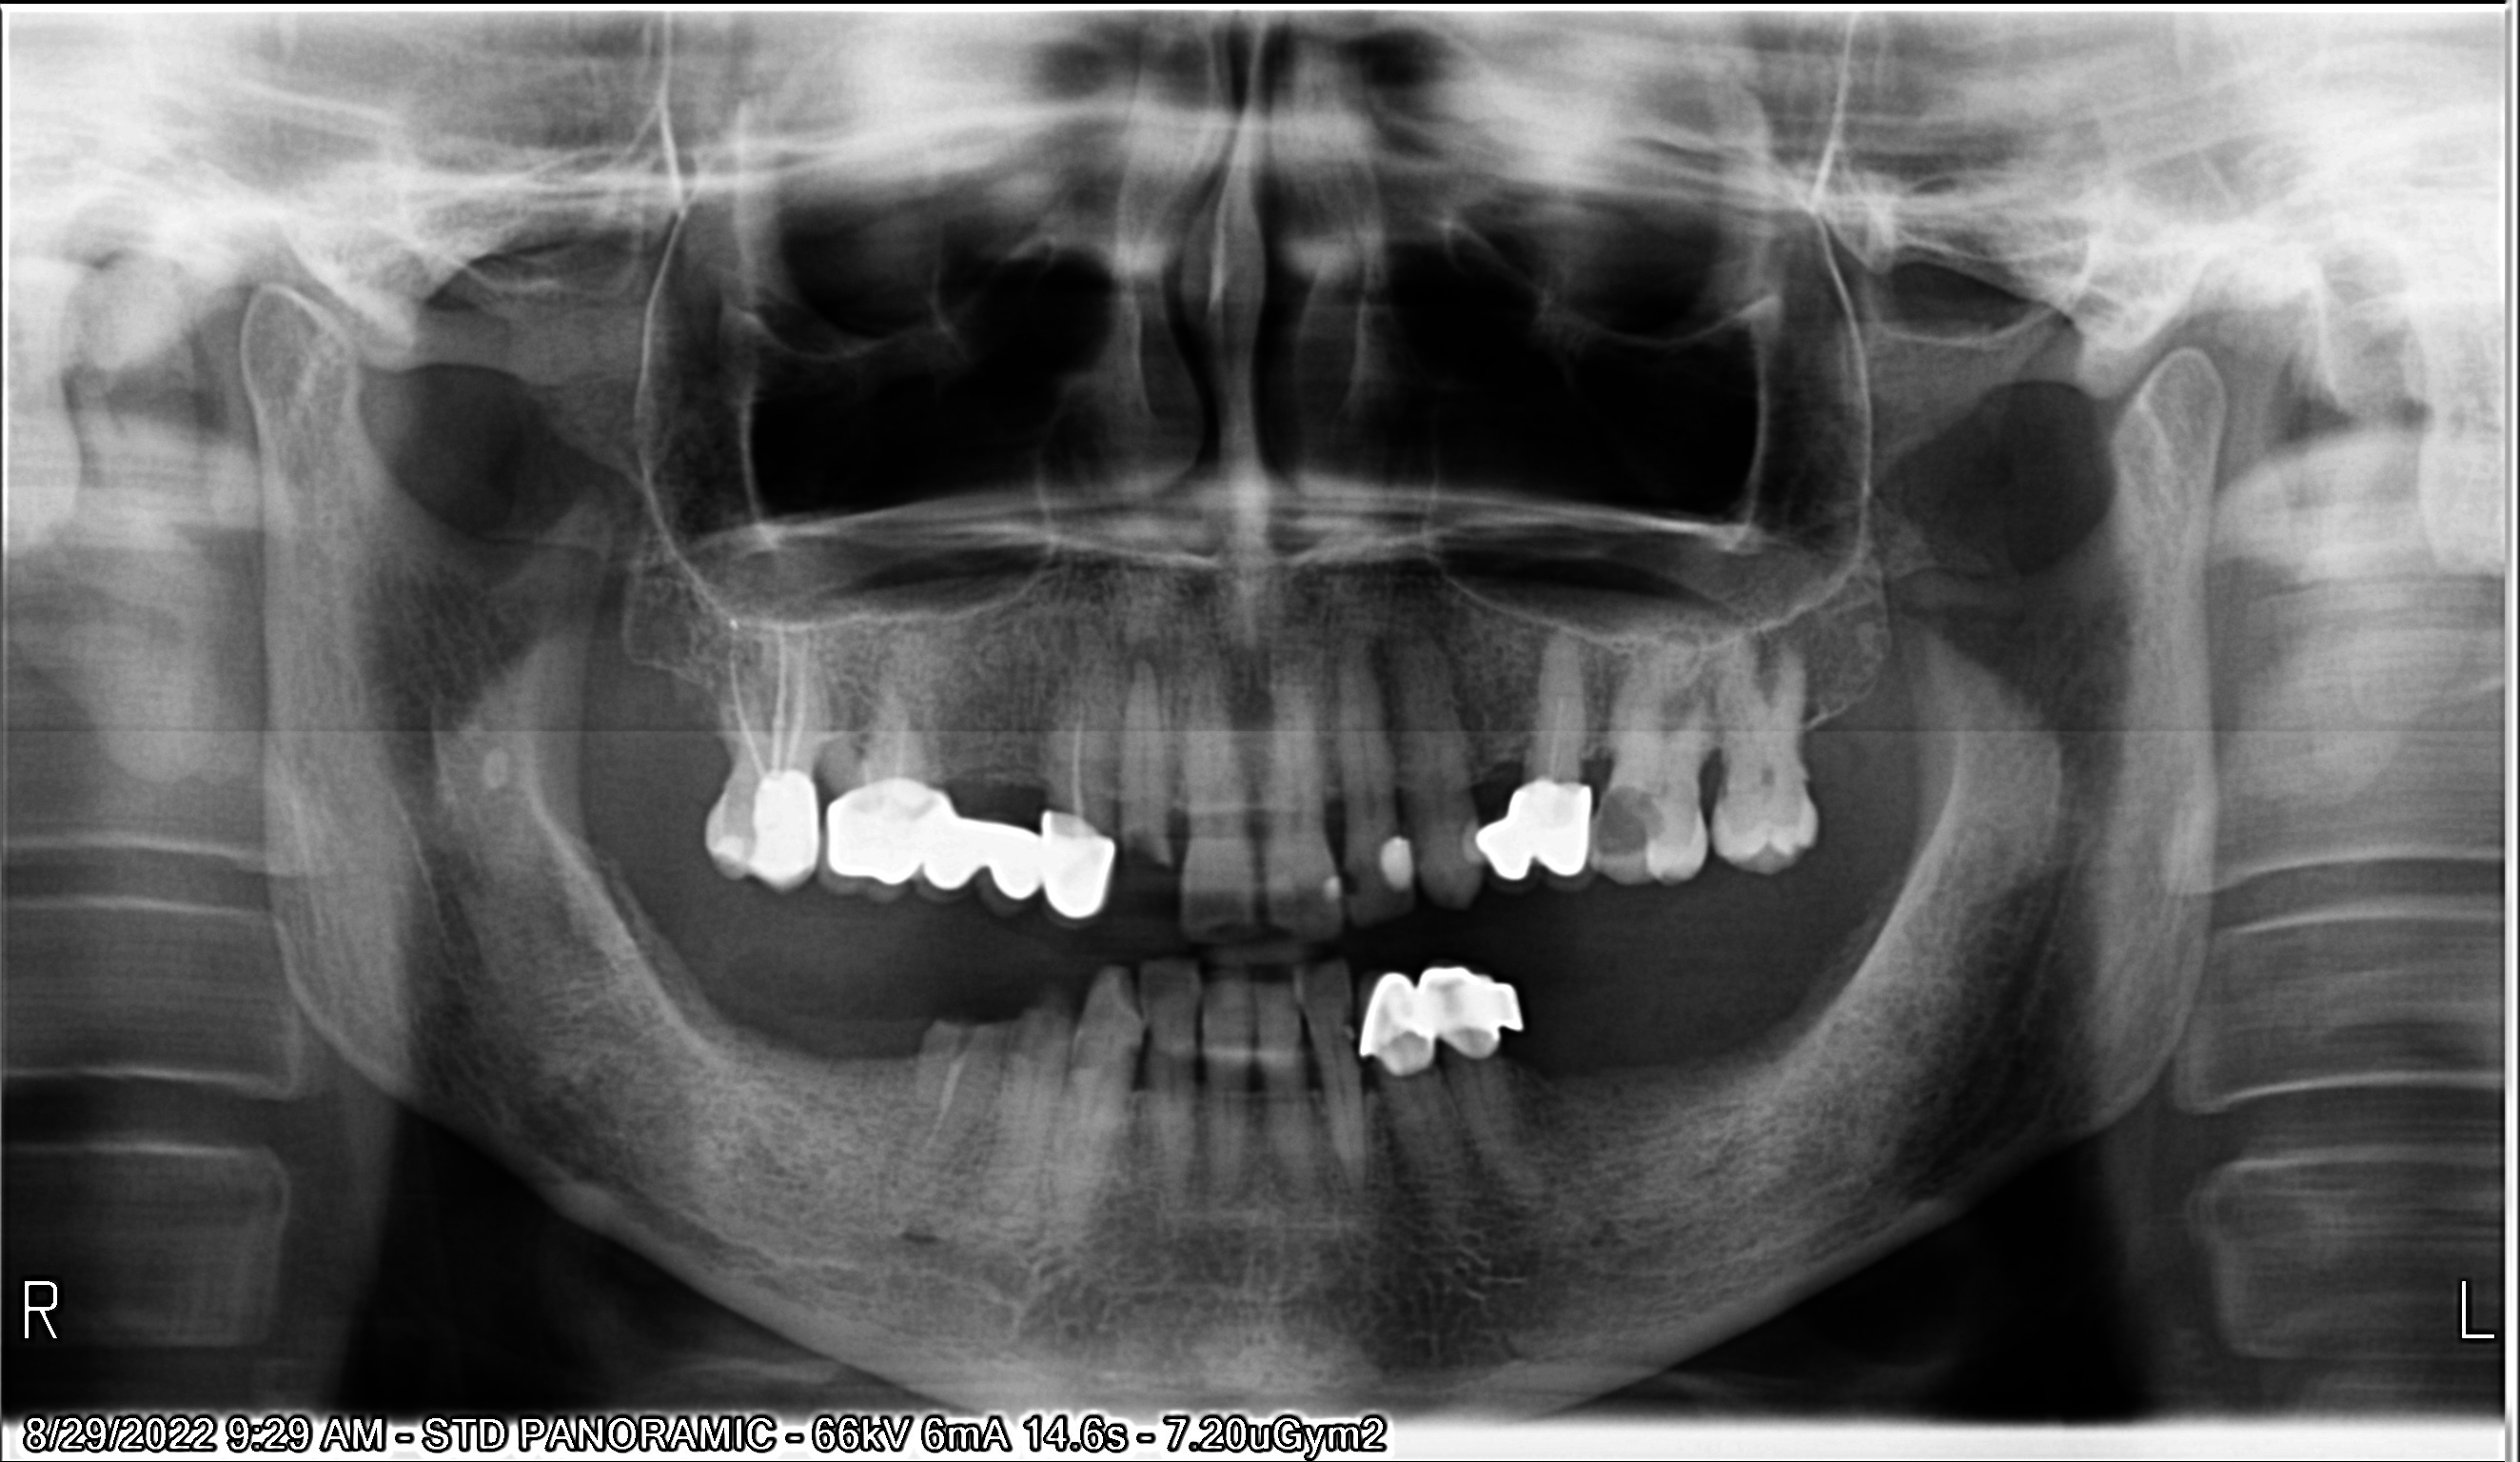API: (1128, 634, 1163, 698)
CAR: (1344, 860, 1368, 895)
END: (729, 614, 808, 778)
OBT: (714, 835, 743, 862)
PRR: (818, 778, 1114, 928)
ROT: (1119, 658, 1171, 867)
